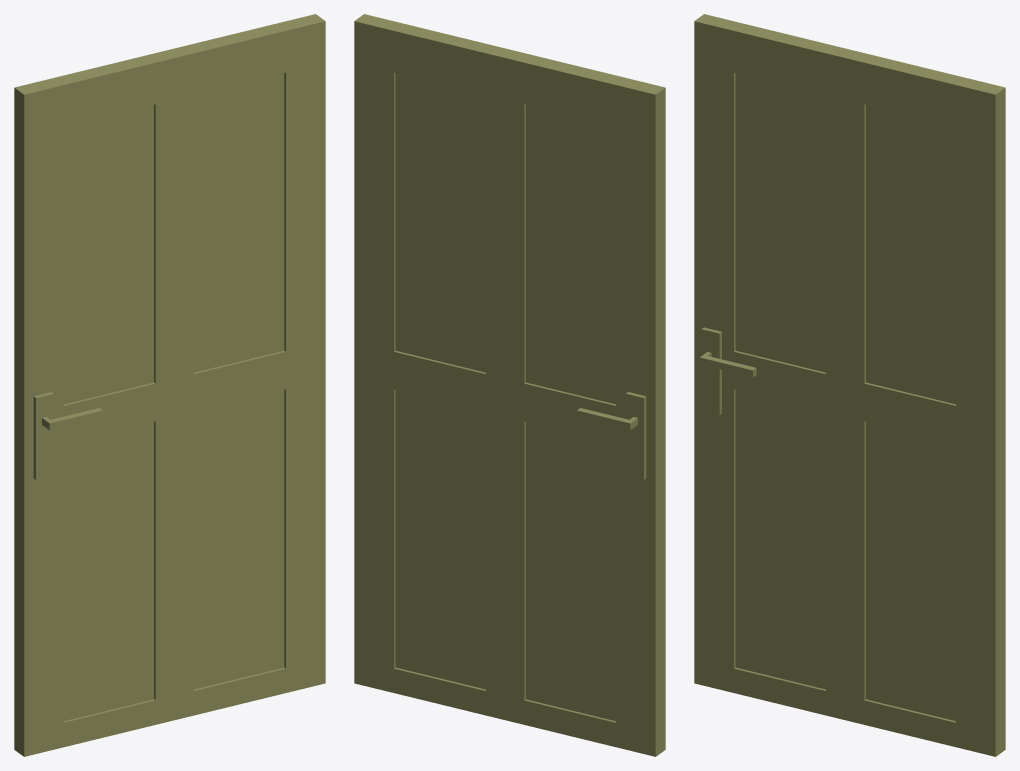
File: Door_Optimized.FBX
3 renders of one model, left to right at view 1: azimuth 30°, elevation 25°; view 2: azimuth 150°, elevation 25°; view 3: azimuth 330°, elevation 25°, orthographic.
Parts seen in each view (by area): view 1: Door_2; view 2: Door_2; view 3: Door_2.
Boxes of the visible parts, <box> form: Door_2: <box>14,14,325,756</box>; Door_2: <box>354,14,665,756</box>; Door_2: <box>694,14,1005,756</box>.
Size of the model in its own units: 0.5082 by 1.07 by 0.0876.
